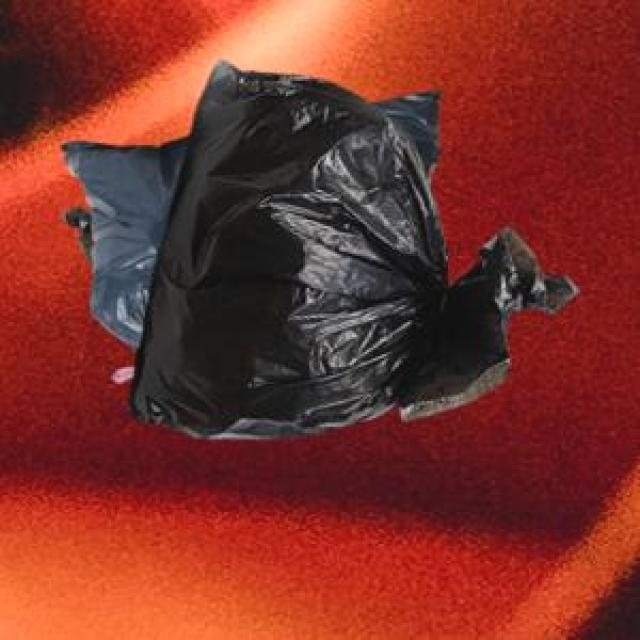Trashbag: (56, 53, 581, 445)
